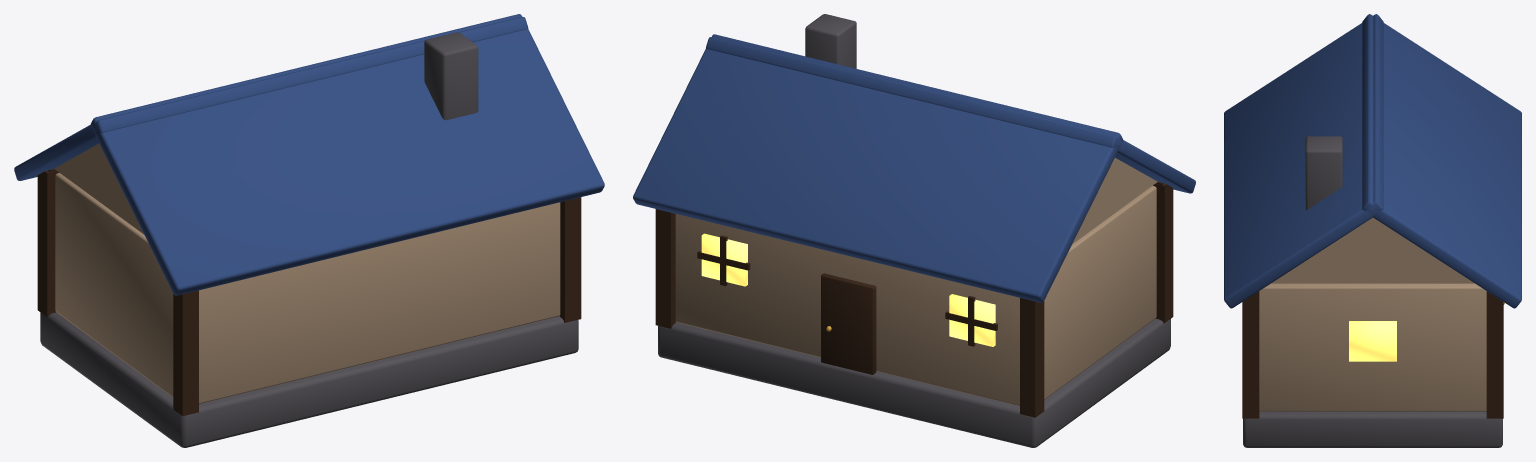
File: house_b.glb
3 renders of one model, left to right at view 1: azimuth 30°, elevation 25°; view 2: azimuth 150°, elevation 25°; view 3: azimuth 270°, elevation 25°, orthographic. The views are drawn at different scales.
Visible parts, largest first — view 1: house_b; view 2: house_b; view 3: house_b.
Part boxes in pixels (x1,y1,x2,y2): house_b: (14,14,604,447); house_b: (633,14,1195,447); house_b: (1224,14,1521,447).
Bounding box in the file's own units: 8.4 × 5.6 × 5.61.
